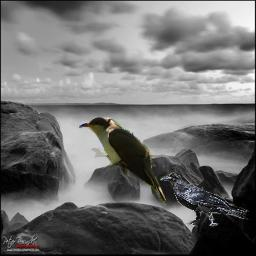Crow: (160, 172, 251, 228)
Cuckoo: (77, 117, 166, 205)
